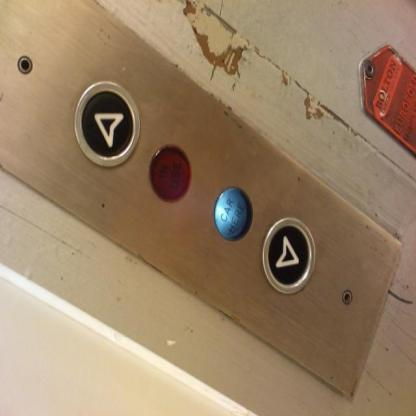down: (260, 213, 316, 295)
text: (148, 142, 192, 203), (211, 183, 253, 242)
up: (72, 78, 140, 170)
